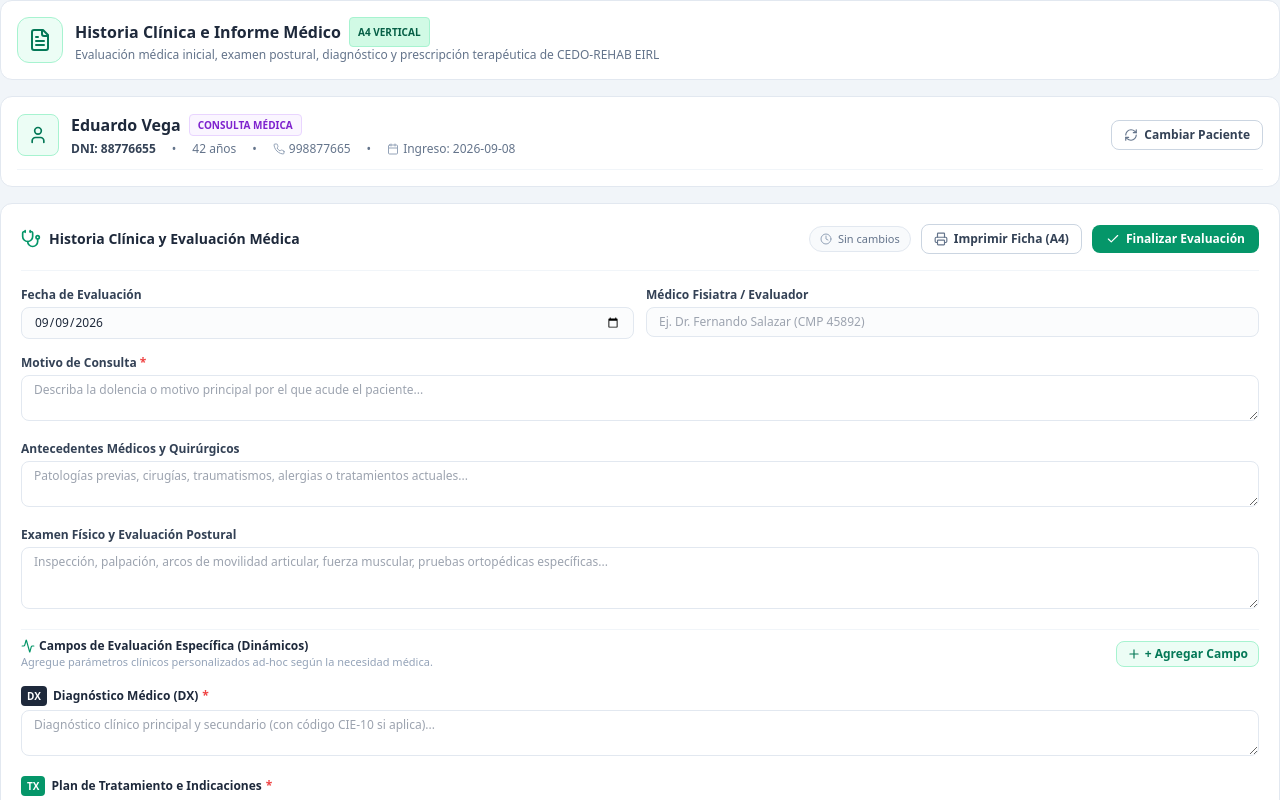
Scenario: ModuloHistoriaClinica Component › debe cambiar a la vista de impresión A4 institucional al hacer clic en imprimir
Click the button "Imprimir Ficha (A4)".
click(1001, 239)  # box left=921, top=224, right=1082, bottom=254
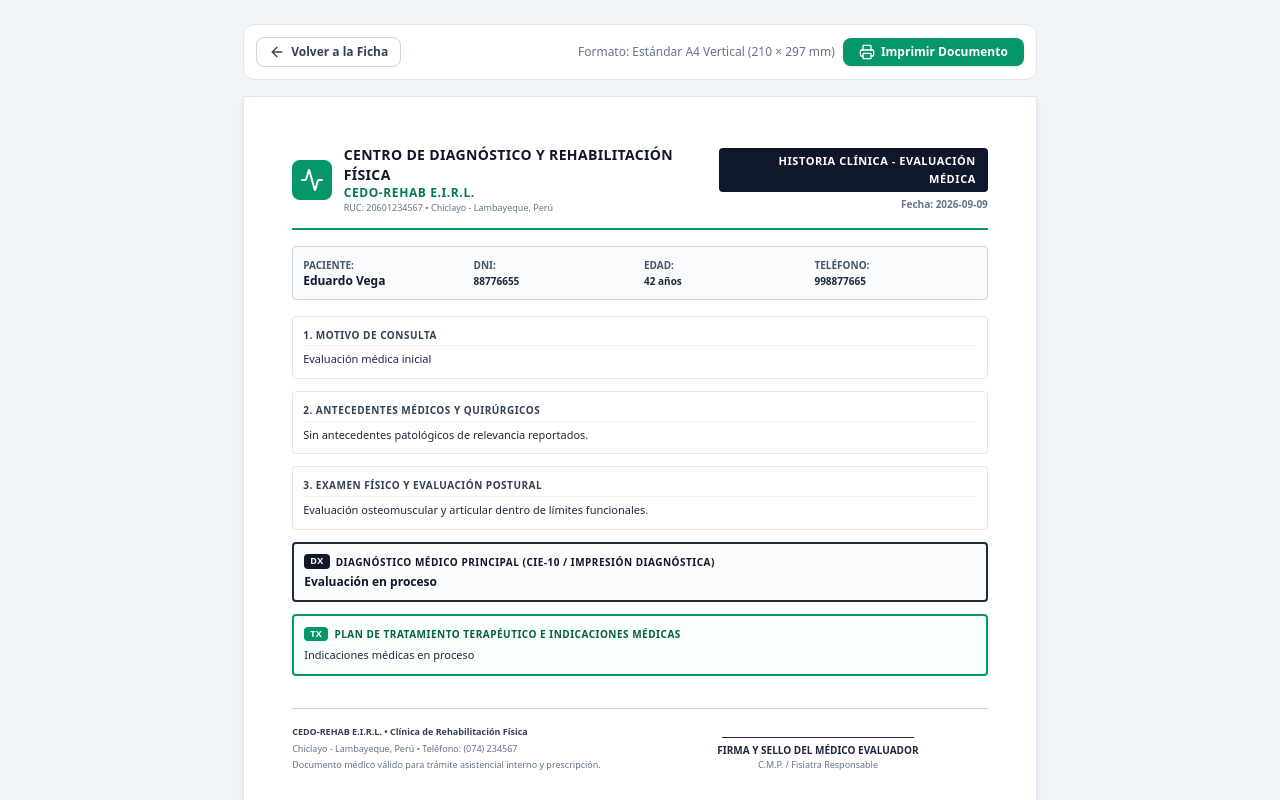
Check: the heading "CEDO-REHAB E.I.R.L." is shown, box left=344, top=184, right=475, bottom=201
Check: the button "Volver a la Ficha" is shown, box left=256, top=37, right=401, bottom=67
